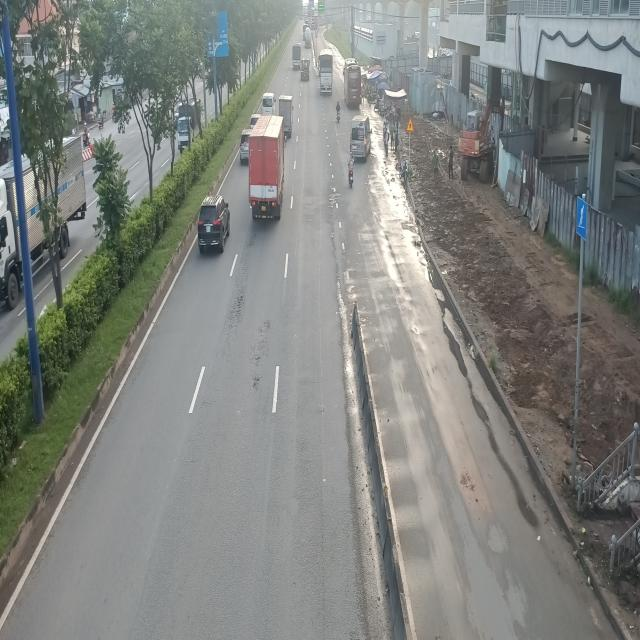car: (198, 196, 230, 254)
coach: (343, 58, 362, 110)
truck: (249, 118, 286, 221), (318, 48, 335, 96), (276, 94, 294, 138)
van: (349, 116, 371, 164), (262, 93, 277, 118)
